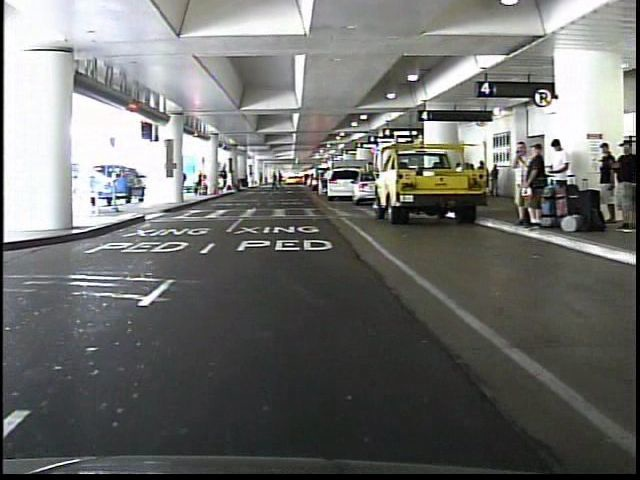person: (506, 140, 529, 224), (611, 138, 632, 228), (310, 165, 331, 192)
